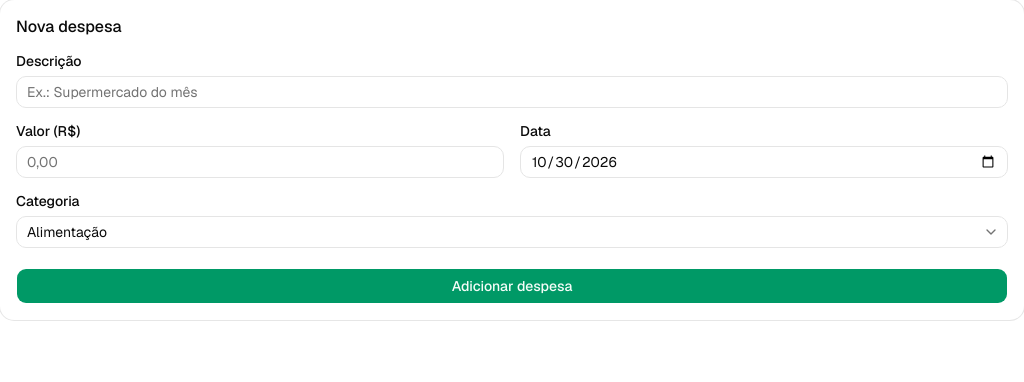
Scenario: <ExpenseForm /> › limpa o erro do campo assim que o usuário corrige o valor
Step 1. Click the button "Adicionar despesa" → (512, 286), box [16,268,1008,304]
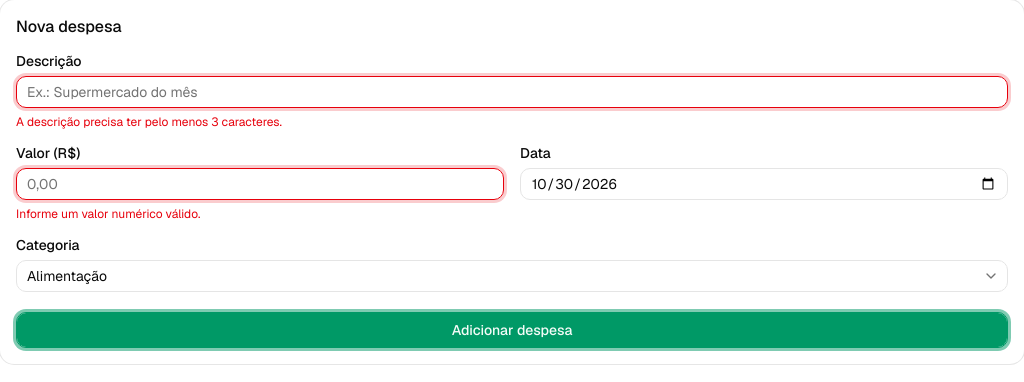
expect the text "Informe um valor numérico válido." is shown: met, box [16,206,200,222]
Step 2. Type "40" into the field labelled "Valor (R$)" → (260, 184), box [16,168,504,200]
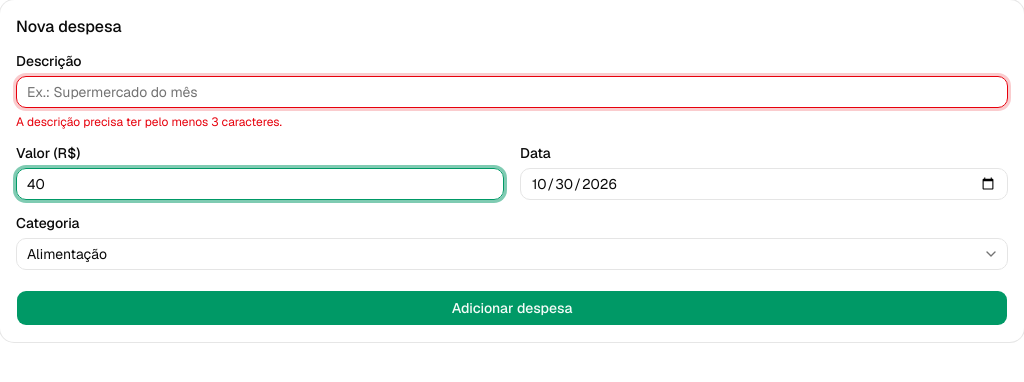
expect the text "Informe um valor numérico válido" is gone: met
